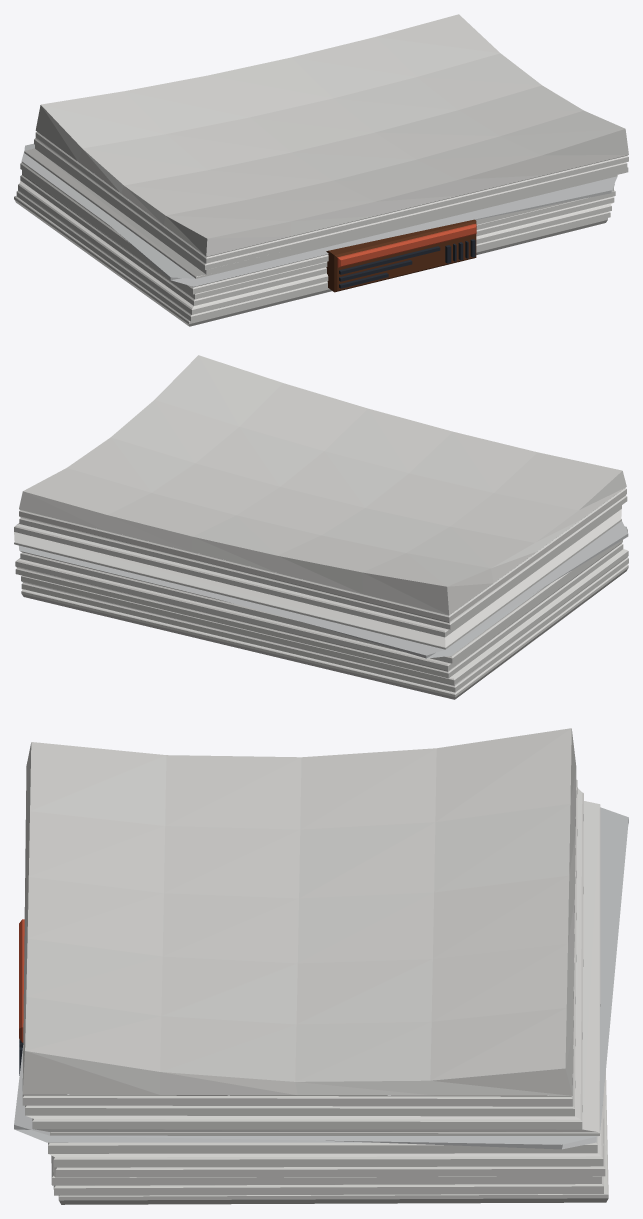
File: queue.glb
The picture shows the model from 3 angles, top to bottom: view 1: azimuth 30°, elevation 25°; view 2: azimuth 150°, elevation 25°; view 3: azimuth 270°, elevation 25°; orthographic projection. The views are drawn at different scales.
Visible parts, largest first — view 1: paper-stack; view 2: paper-stack; view 3: paper-stack.
Part boxes in pixels (x1,y1,x2,y2): paper-stack: [14, 14, 628, 326]; paper-stack: [14, 355, 628, 699]; paper-stack: [14, 728, 628, 1204].
Bounding box in the file's own units: 0.314 × 0.0676 × 0.2348.
